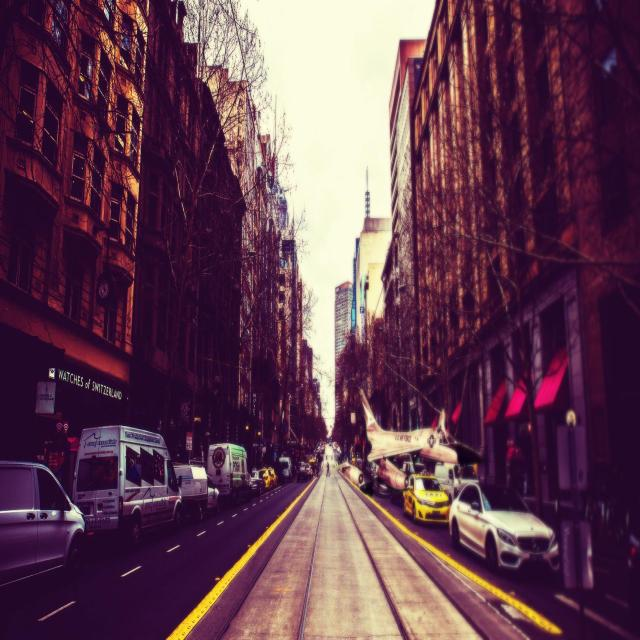airplane: (358, 386, 483, 466)
